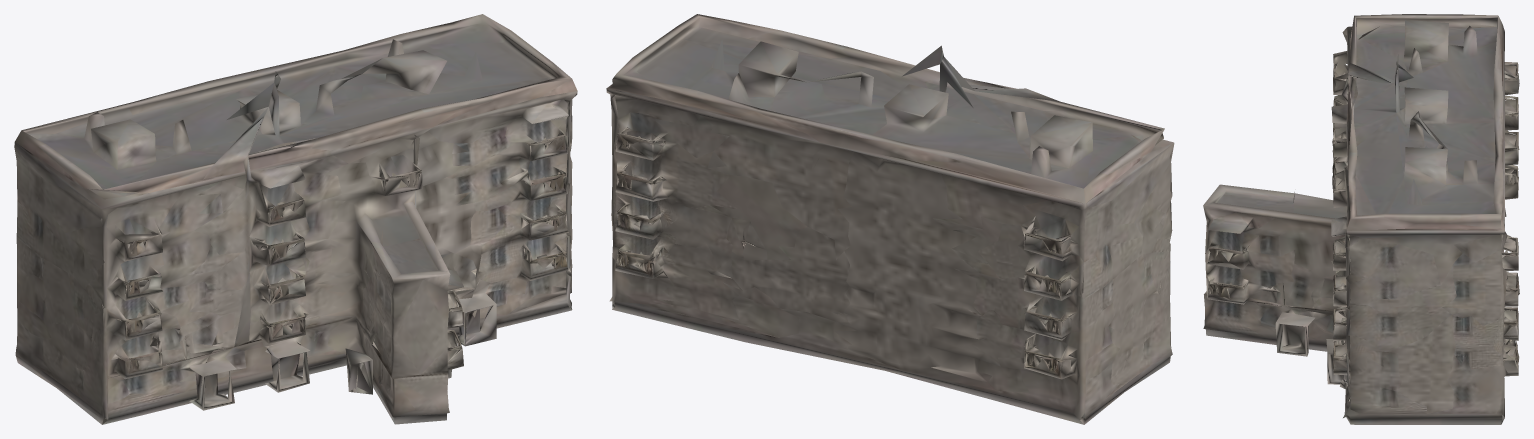
Rendered from apartment_block.glb.
The picture shows the model from 3 angles, left to right: view 1: azimuth 30°, elevation 25°; view 2: azimuth 150°, elevation 25°; view 3: azimuth 270°, elevation 25°; orthographic projection. The views are drawn at different scales.
Parts seen in each view (by area): view 1: tripo_node_94b22dd4-aa0d-4a4a-9c17-114a3728bb7a; view 2: tripo_node_94b22dd4-aa0d-4a4a-9c17-114a3728bb7a; view 3: tripo_node_94b22dd4-aa0d-4a4a-9c17-114a3728bb7a.
Boxes of the visible parts, x1=… form: tripo_node_94b22dd4-aa0d-4a4a-9c17-114a3728bb7a: x1=14, y1=14, x2=577, y2=424; tripo_node_94b22dd4-aa0d-4a4a-9c17-114a3728bb7a: x1=606, y1=14, x2=1174, y2=424; tripo_node_94b22dd4-aa0d-4a4a-9c17-114a3728bb7a: x1=1203, y1=14, x2=1519, y2=424.
Bounding box in the file's own units: 0.9783 × 0.5616 × 0.6353.
1 material, 1 textured.
